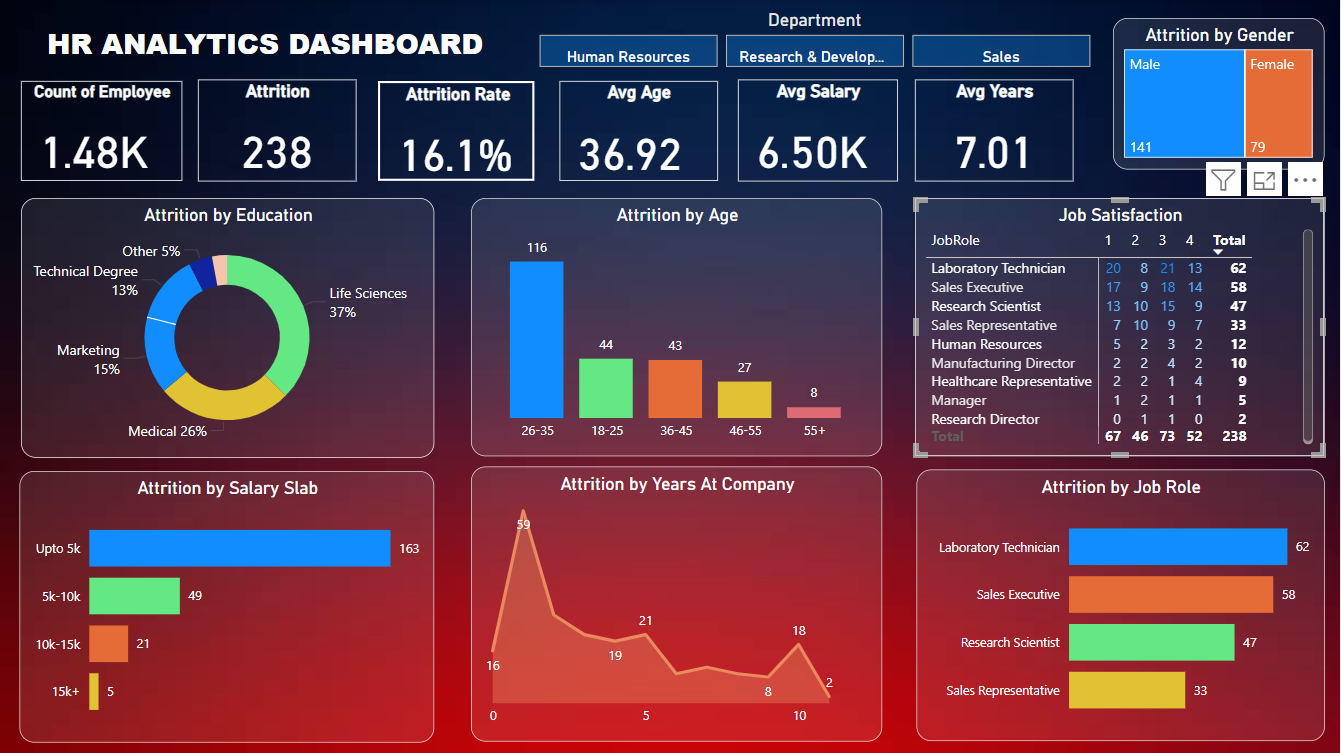

What the dashboard file says about the page in this screenshot:
{"tool":"powerbi","page":{"name":"Page 1","canvas":[1280,720],"ordinal":0},"visuals":[{"type":"cardVisual","title":"Count of Employee","fields":{"Data":["CountNonNull(HR_Analytics.EmpID)"]},"box":[20.7,77.9,154.3,95.4],"z":0},{"type":"cardVisual","title":"Attrition","fields":{"Data":["Sum(HR_Analytics.AttritionCount)"]},"box":[189.3,76.3,151.1,97],"z":1000},{"type":"cardVisual","title":"Attrition Rate","fields":{"Data":["HR_Analytics.AttritionRate"]},"box":[361.1,77.9,149.5,95.4],"z":2000},{"type":"cardVisual","title":"Avg Age","fields":{"Data":["Avg(HR_Analytics.Age)"]},"box":[534.4,77.9,151.1,95.4],"z":3000},{"type":"cardVisual","title":"Avg Salary","fields":{"Data":["Avg(HR_Analytics.MonthlyIncome)"]},"box":[704.6,76.3,152.7,97],"z":4000},{"type":"cardVisual","title":"Avg Years","fields":{"Data":["Avg(HR_Analytics.YearsAtCompany)"]},"box":[873.2,76.3,151.1,97],"z":5000},{"type":"donutChart","title":" Attrition by Education","fields":{"Category":["HR_Analytics.EducationField"],"Y":["Sum(HR_Analytics.AttritionCount)"]},"box":[20.7,189.3,394.5,248.1],"z":6000},{"type":"columnChart","title":" Attrition by Age","fields":{"Category":["HR_Analytics.AgeGroup"],"Y":["Sum(HR_Analytics.AttritionCount)"]},"box":[450.1,189.3,392.9,246.5],"z":7000},{"type":"pivotTable","title":"Job Satisfaction","fields":{"Rows":["HR_Analytics.JobRole"],"Columns":["HR_Analytics.JobSatisfaction"],"Values":["Sum(HR_Analytics.AttritionCount)"]},"box":[873.2,189.3,391.3,246.5],"z":8000},{"type":"barChart","title":" Attrition by Salary Slab","fields":{"Category":["HR_Analytics.SalarySlab"],"Y":["Sum(HR_Analytics.AttritionCount)"]},"box":[19.1,450.1,396.1,259.3],"z":9000},{"type":"barChart","title":" Attrition by Job Role","fields":{"Y":["Sum(HR_Analytics.AttritionCount)"],"Category":["HR_Analytics.JobRole"]},"box":[874.8,448.6,389.7,259.3],"z":10000},{"type":"areaChart","title":" Attrition by Years At Company","fields":{"Category":["HR_Analytics.YearsAtCompany"],"Y":["Sum(HR_Analytics.AttritionCount)"]},"box":[450.1,445.4,392.9,262.5],"z":11000},{"type":"treemap","title":" Attrition by Gender","fields":{"Group":["HR_Analytics.Gender"],"Values":["Sum(HR_Analytics.AttritionCount)"]},"box":[1062.5,17.5,202,144.7],"z":12000},{"type":"advancedSlicerVisual","fields":{"Values":["HR_Analytics.Department"]},"box":[510.6,8,536,60.4],"z":13000},{"type":"textbox","box":[20.7,17.5,466,50.9],"z":14000}]}

Visuals, with their boxes in screenshot pixels (x1, y1, x2, y2), scaled from the page's 1280x720 canvas onto the 1341x753 screenshot:
"Count of Employee" cardVisual: left=22, top=81, right=183, bottom=181
"Attrition" cardVisual: left=198, top=80, right=357, bottom=181
"Attrition Rate" cardVisual: left=378, top=81, right=535, bottom=181
"Avg Age" cardVisual: left=560, top=81, right=718, bottom=181
"Avg Salary" cardVisual: left=738, top=80, right=898, bottom=181
"Avg Years" cardVisual: left=915, top=80, right=1073, bottom=181
" Attrition by Education" donutChart: left=22, top=198, right=435, bottom=457
" Attrition by Age" columnChart: left=472, top=198, right=883, bottom=456
"Job Satisfaction" pivotTable: left=915, top=198, right=1325, bottom=456
" Attrition by Salary Slab" barChart: left=20, top=471, right=435, bottom=742
" Attrition by Job Role" barChart: left=916, top=469, right=1325, bottom=740
" Attrition by Years At Company" areaChart: left=472, top=466, right=883, bottom=740
" Attrition by Gender" treemap: left=1113, top=18, right=1325, bottom=170
advancedSlicerVisual - HR_Analytics.Department: left=535, top=8, right=1096, bottom=72
textbox: left=22, top=18, right=510, bottom=72
